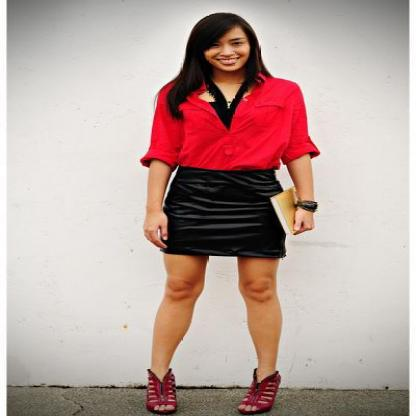dress: (162, 76, 285, 258)
jacket: (143, 75, 320, 174)
shoe: (146, 374, 280, 416)
